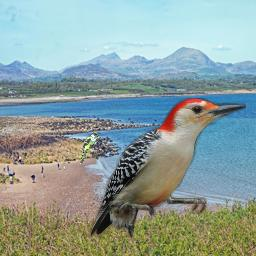Cuckoo: (80, 132, 101, 164)
Woodpecker: (88, 98, 246, 238)
